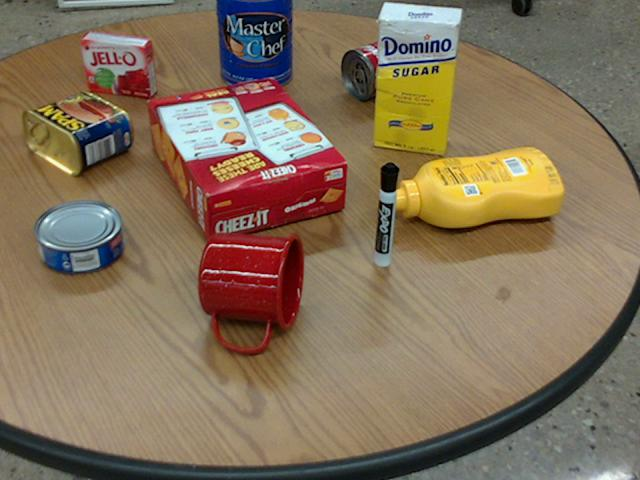cracker_box: (146, 77, 347, 241)
gelatin_box: (80, 30, 155, 96)
large_marker: (374, 162, 398, 266)
master_chef_can: (216, 0, 292, 88)
mug: (197, 232, 302, 351)
mustard_bottle: (383, 147, 562, 226)
potted_meat_can: (21, 91, 130, 173)
sugar_box: (374, 2, 461, 154)
tomato_soup_can: (340, 30, 427, 98)
tuna_fish_can: (33, 199, 121, 272)
